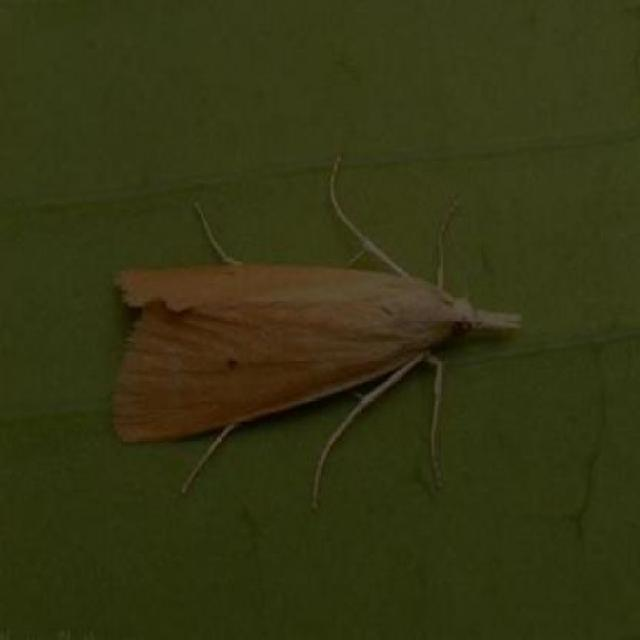stem-borer: (108, 237, 529, 465)
